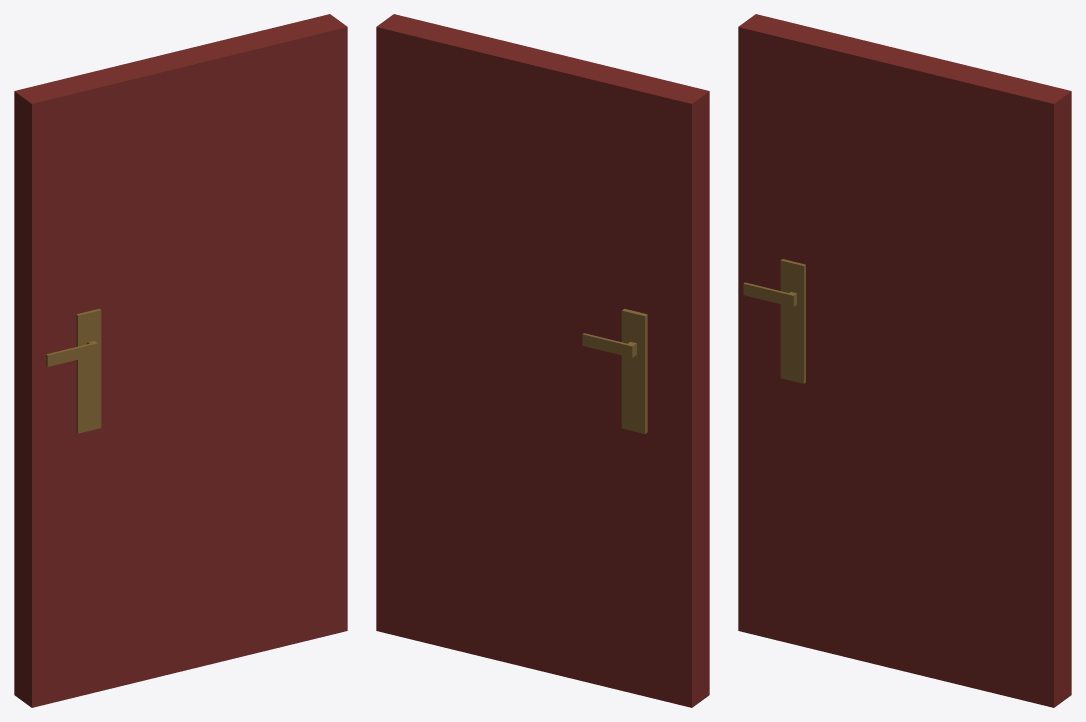
File: door.fbx
3 views of the same model, side by side, from view 1: azimuth 30°, elevation 25°; view 2: azimuth 150°, elevation 25°; view 3: azimuth 330°, elevation 25° (orthographic).
Parts seen in each view (by area): view 1: Door, DoorHandle, Handle; view 2: Door, DoorHandle.001, Handle.001; view 3: Door, DoorHandle, Handle.
Boxes of the visible parts, bbox=[...] form: Door: bbox=[14, 14, 347, 707]; DoorHandle: bbox=[76, 308, 101, 433]; Handle: bbox=[46, 341, 97, 366]; Door: bbox=[376, 14, 709, 707]; DoorHandle.001: bbox=[621, 308, 647, 433]; Handle.001: bbox=[582, 333, 636, 357]; Door: bbox=[738, 14, 1071, 707]; DoorHandle: bbox=[780, 259, 805, 383]; Handle: bbox=[743, 282, 796, 307].
Size of the model in its own units: 443 by 809 by 72.94.
